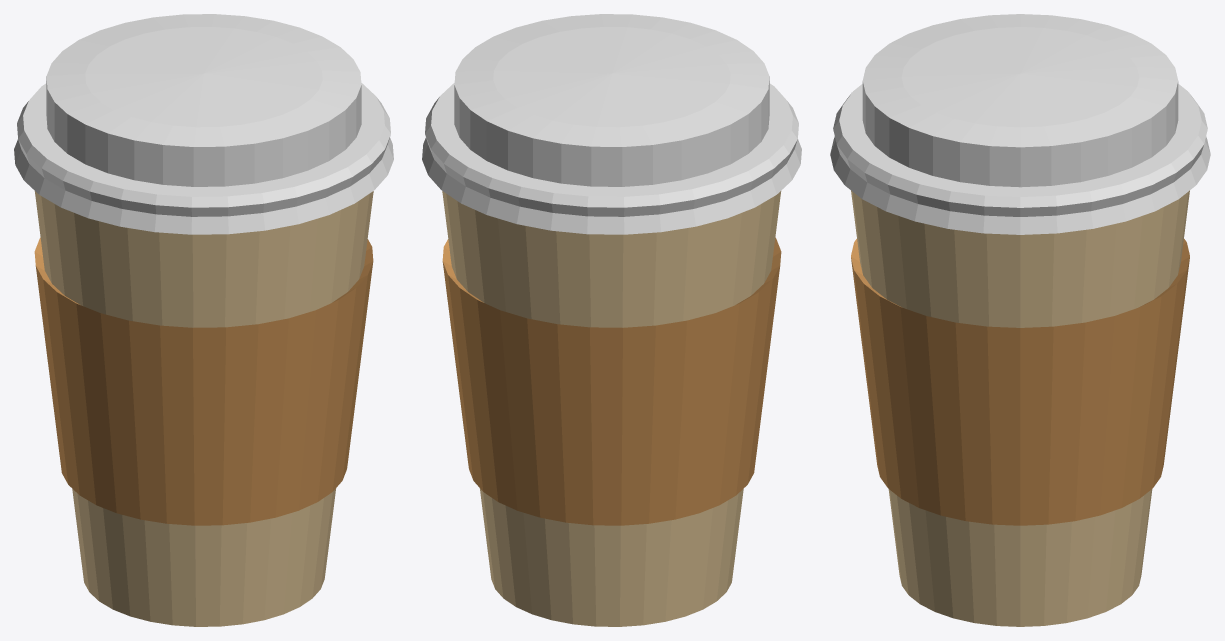
Rendered from Coffee_Cup_02_06.fbx.
3 renders of one model, left to right at view 1: azimuth 30°, elevation 25°; view 2: azimuth 150°, elevation 25°; view 3: azimuth 270°, elevation 25°, orthographic.
Parts seen in each view (by area): view 1: Cylinder; view 2: Cylinder; view 3: Cylinder.
Part boxes in pixels (left/top/right/bottom): Cylinder: left=14, top=14, right=393, bottom=626; Cylinder: left=422, top=14, right=801, bottom=626; Cylinder: left=830, top=14, right=1210, bottom=626.
Size of the model in its own units: 22.3 by 32.47 by 22.3.
